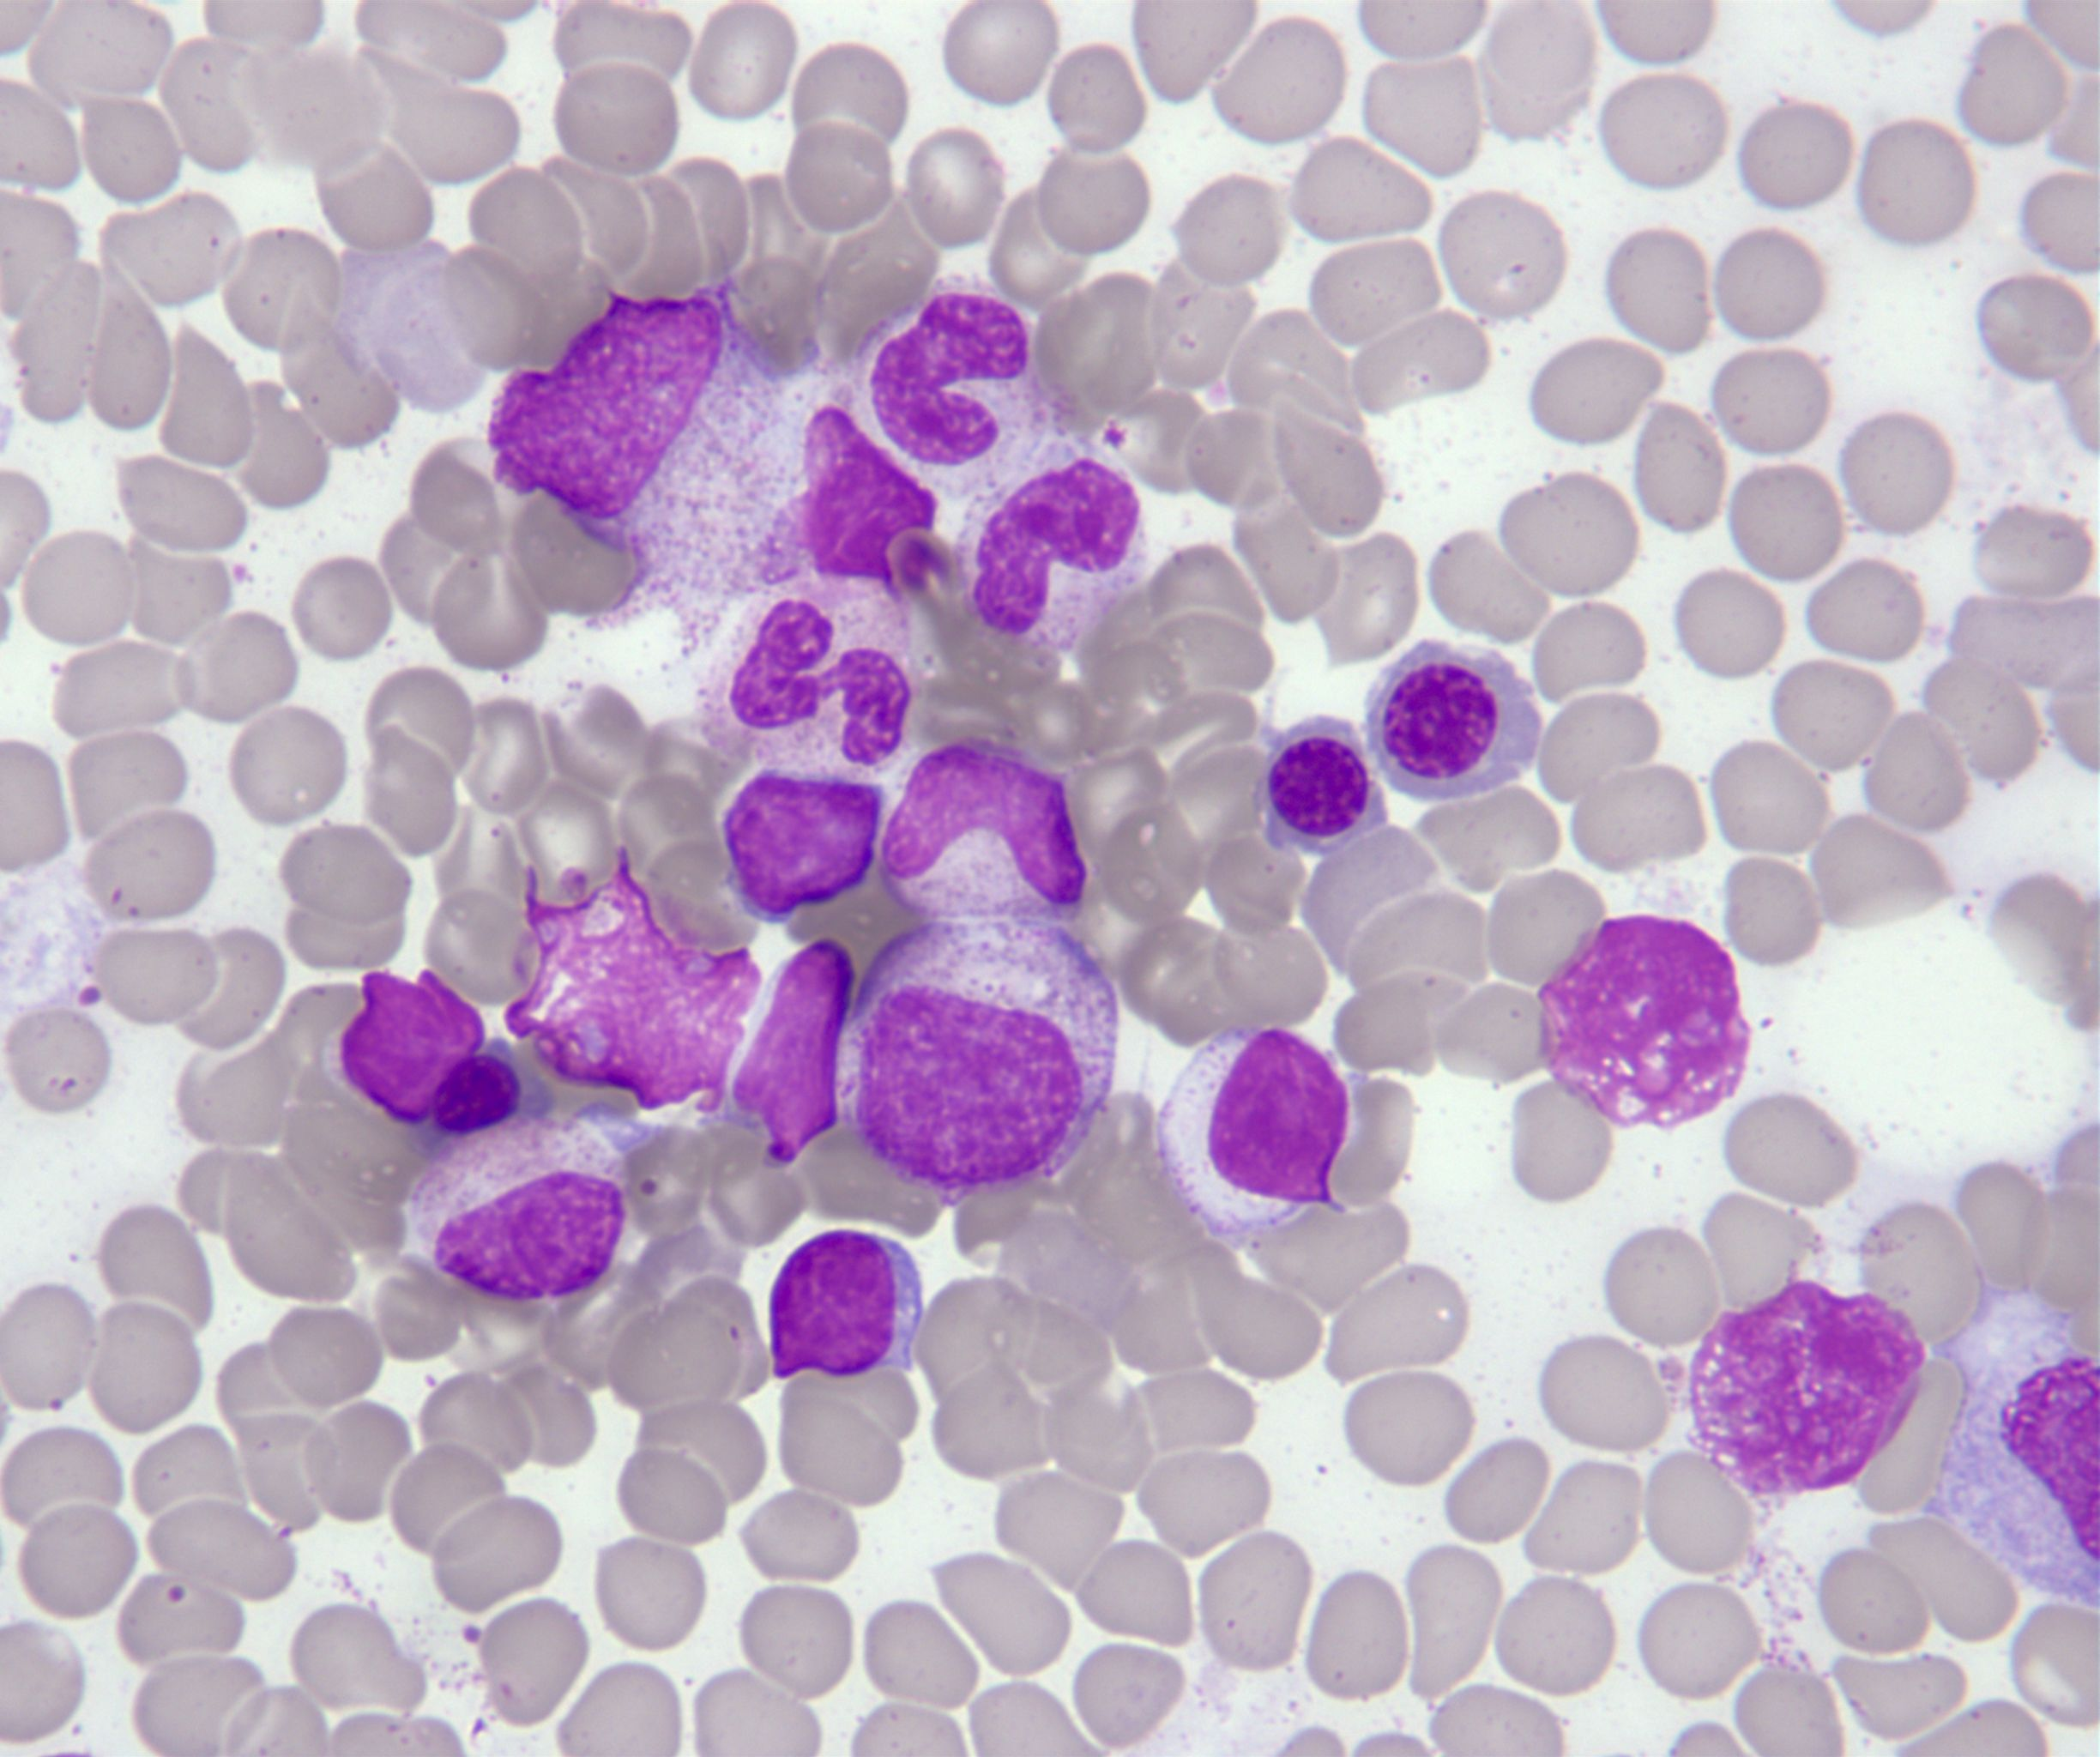24: (1357, 632, 1549, 804), (1252, 710, 1392, 855), (424, 1052, 523, 1141)
3: (846, 923, 1125, 1206), (480, 283, 733, 525)
32: (1148, 1017, 1352, 1244), (733, 932, 858, 1171), (722, 762, 890, 928), (767, 1223, 926, 1382)
4: (403, 1113, 628, 1309), (947, 450, 1160, 653), (879, 735, 1094, 928), (860, 283, 1036, 475)
6: (691, 569, 921, 775)
x: (1681, 1275, 1929, 1504), (1537, 911, 1762, 1132)
